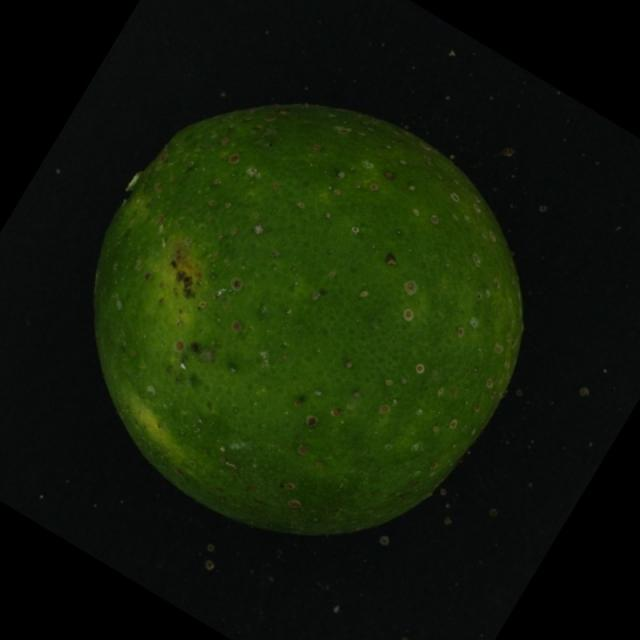grenning: (76, 74, 541, 556)
